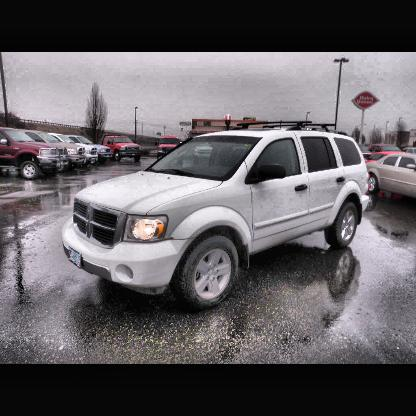Dodge Durango SUV 2007: (63, 123, 370, 307)
